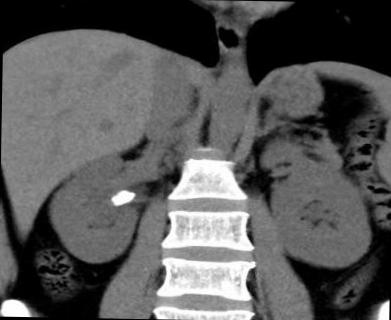Tas_Var: (110, 188, 136, 208)
